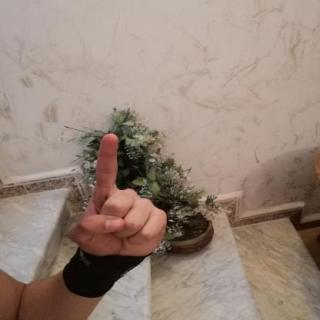BAA: (59, 126, 176, 268)
